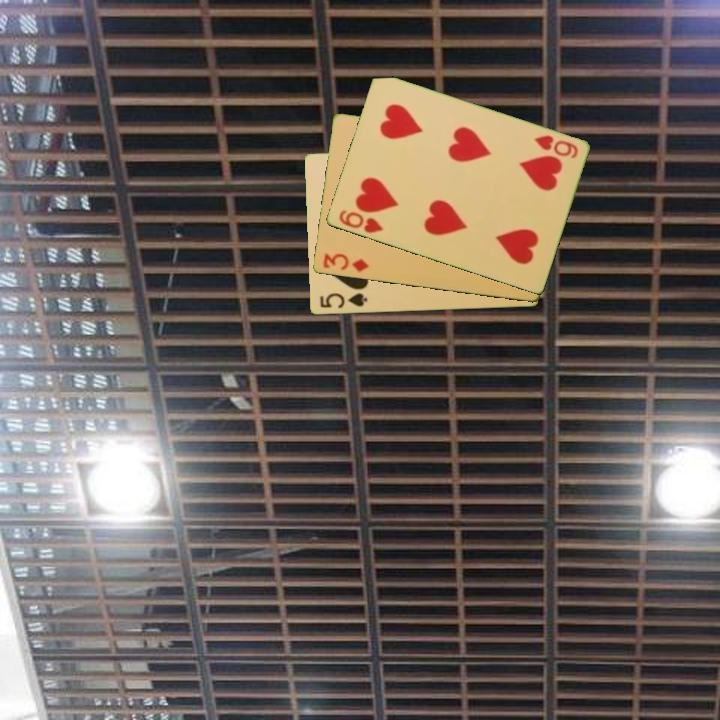3d: (319, 250, 371, 275)
5s: (316, 290, 370, 311)
6h: (335, 206, 386, 236), (531, 131, 581, 161)
